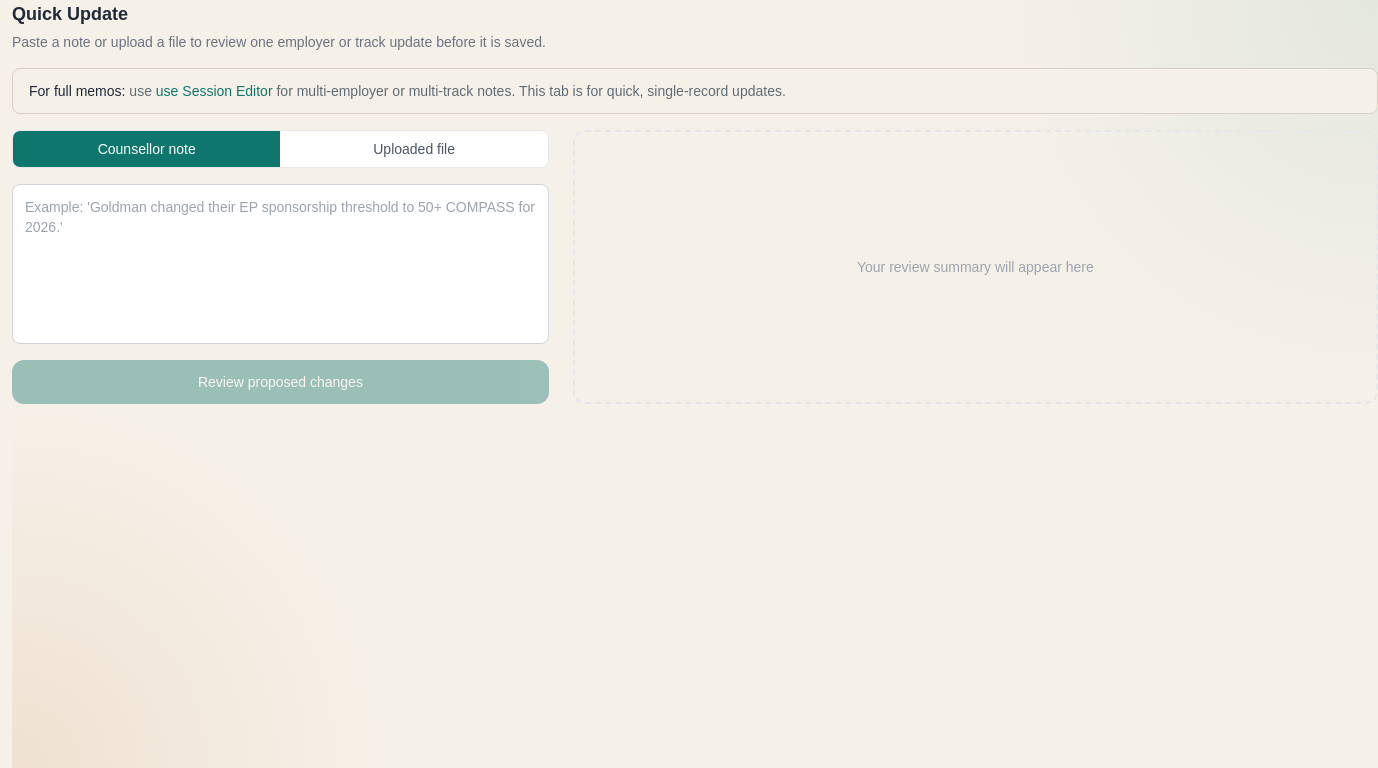
KnowledgeUpdateTab › shows error state when analysis API returns non-ok
Replace the text in the text box with placeholder "Goldman changed their EP sponsorship threshold" with "some note" at {"x": 280, "y": 264}, box [12, 184, 549, 344]
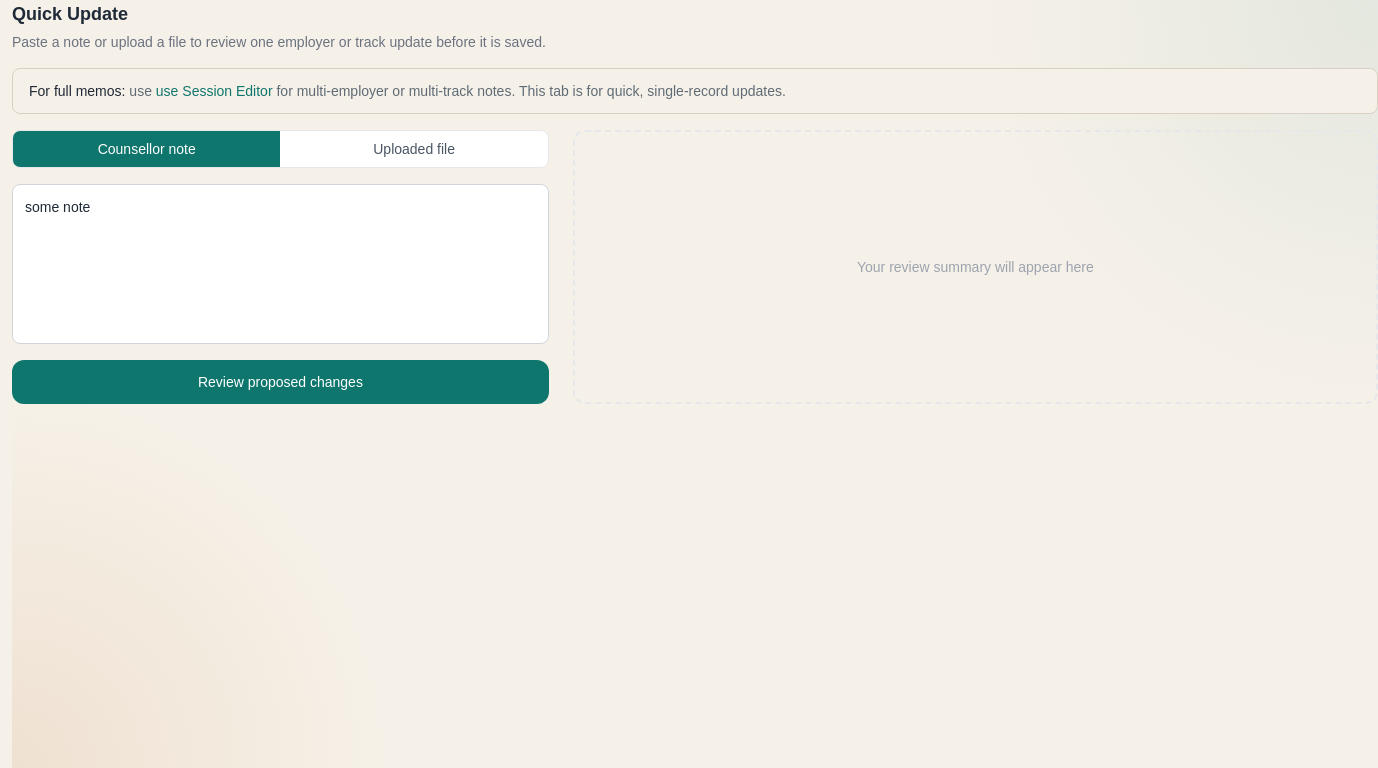
Click the button "Review proposed changes" at {"x": 280, "y": 382}, box [12, 360, 549, 404]
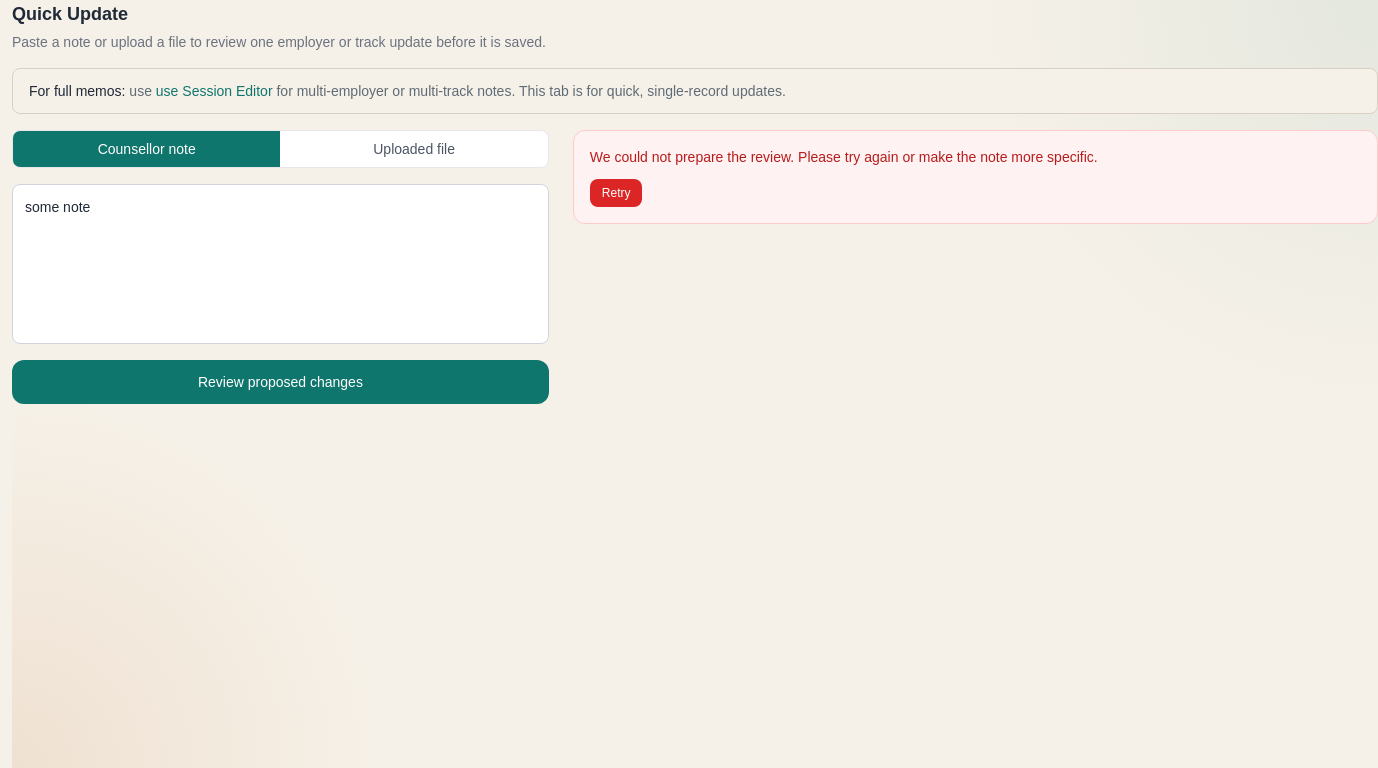
Result: the text "could not prepare the review" is shown at [590, 149, 1098, 165]
